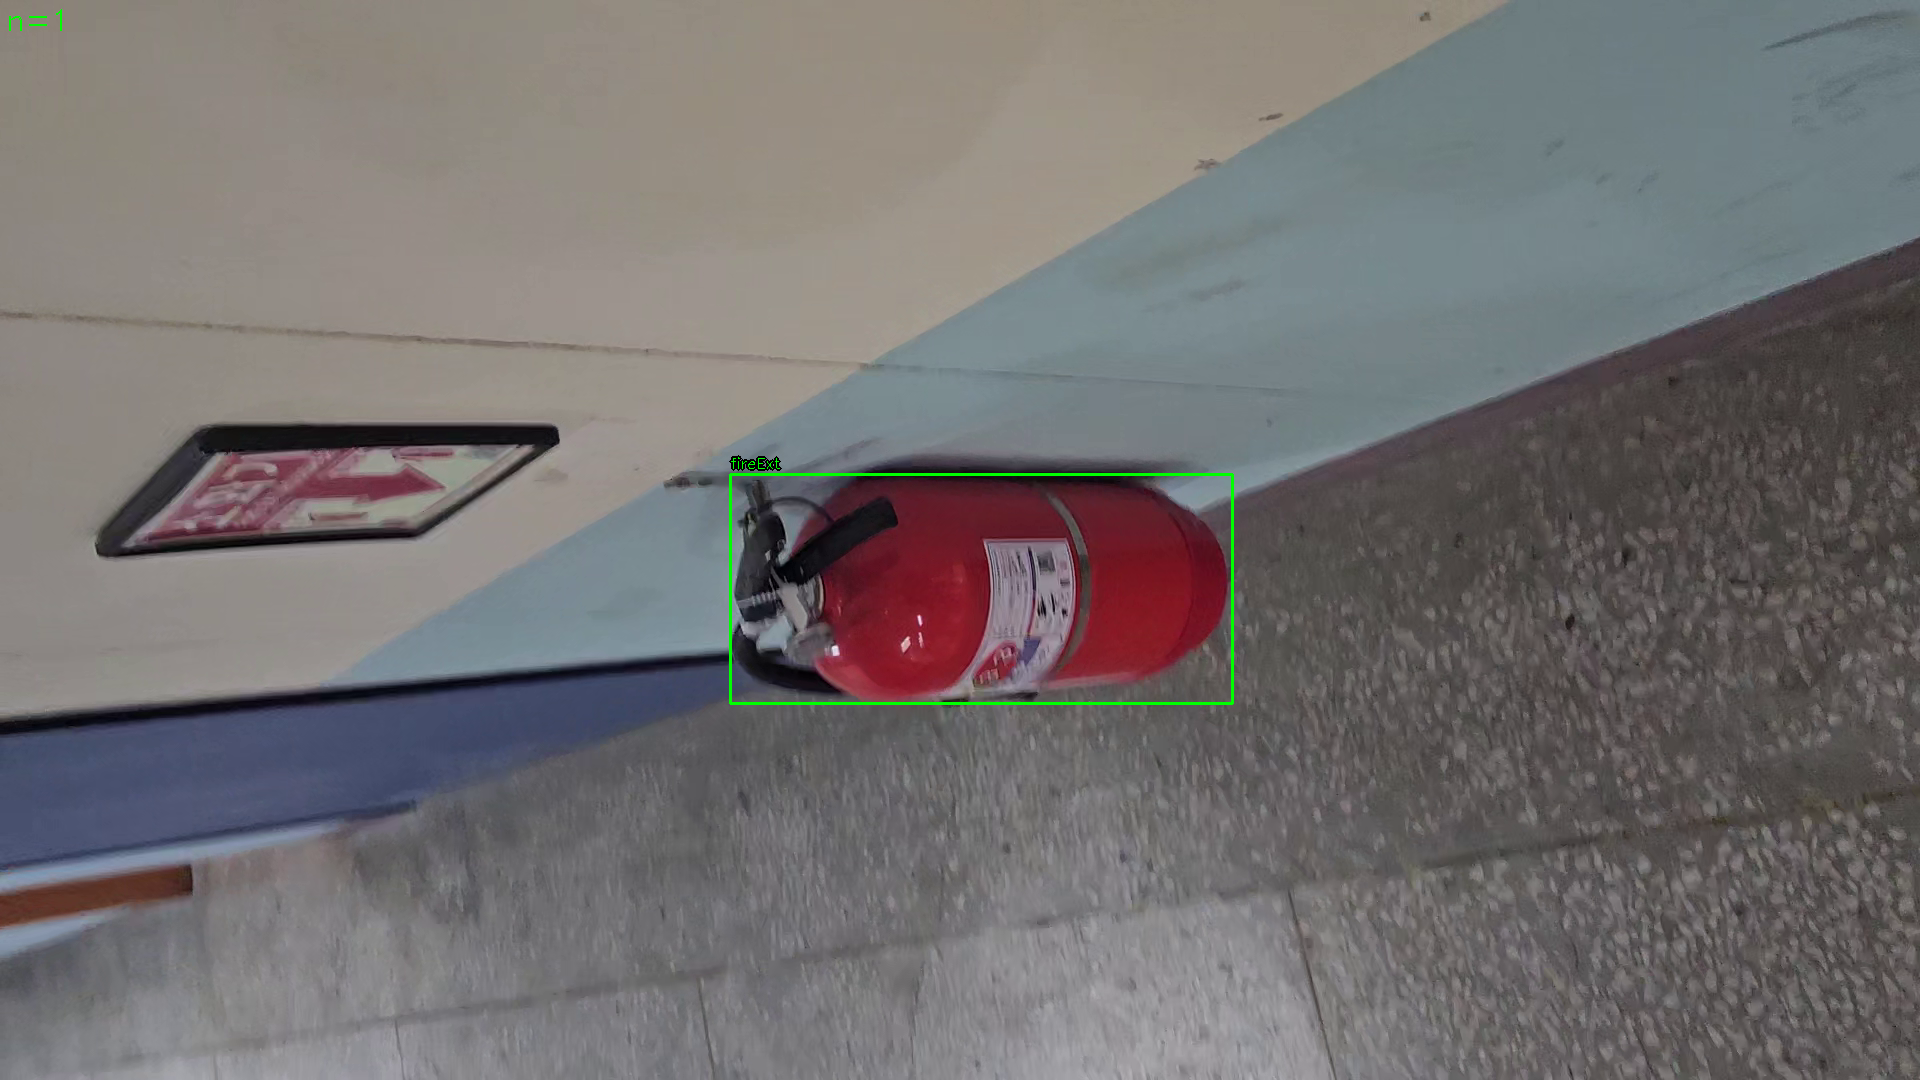lane: (731, 473, 1233, 704)
